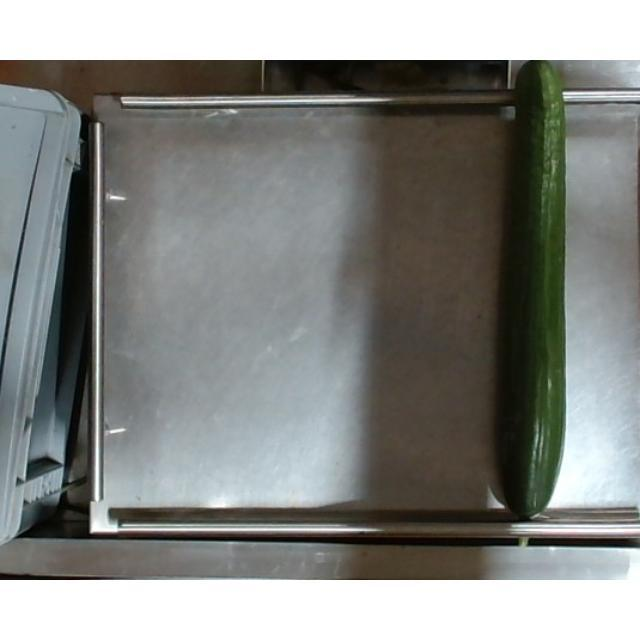cucumber: (502, 60, 568, 516)
